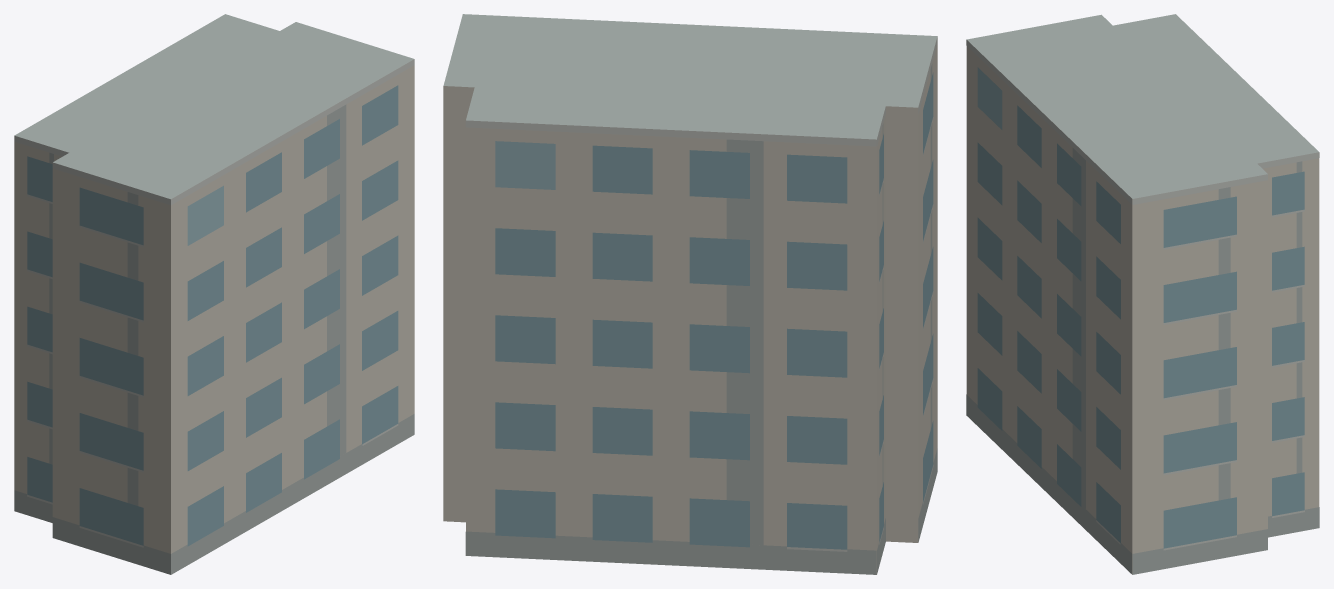
The model's file is survey-upis-33005964.glb.
3 views of the same model, side by side, from view 1: azimuth 30°, elevation 25°; view 2: azimuth 150°, elevation 25°; view 3: azimuth 270°, elevation 25° (orthographic). The views are drawn at different scales.
Parts seen in each view (by area): view 1: survey-upis-33005964.tmp; view 2: survey-upis-33005964.tmp; view 3: survey-upis-33005964.tmp.
Part boxes in pixels (x1=…): survey-upis-33005964.tmp: x1=14, y1=14, x2=414, y2=574; survey-upis-33005964.tmp: x1=443, y1=14, x2=937, y2=574; survey-upis-33005964.tmp: x1=966, y1=14, x2=1319, y2=574.
Size of the model in its own units: 16.11 by 15.25 by 12.99.
